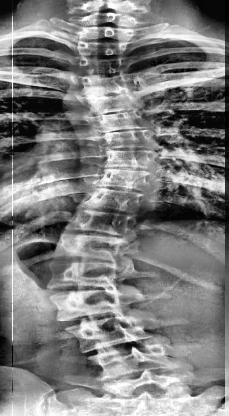Vertebrae: (50, 234, 130, 264), (67, 317, 146, 345), (50, 290, 128, 318), (45, 262, 117, 290), (65, 208, 137, 236), (80, 190, 149, 214), (96, 168, 158, 192), (90, 111, 152, 135), (102, 148, 162, 172), (83, 92, 140, 114), (100, 128, 164, 147), (76, 57, 128, 80), (81, 74, 133, 96), (74, 40, 128, 58), (79, 27, 127, 44)
